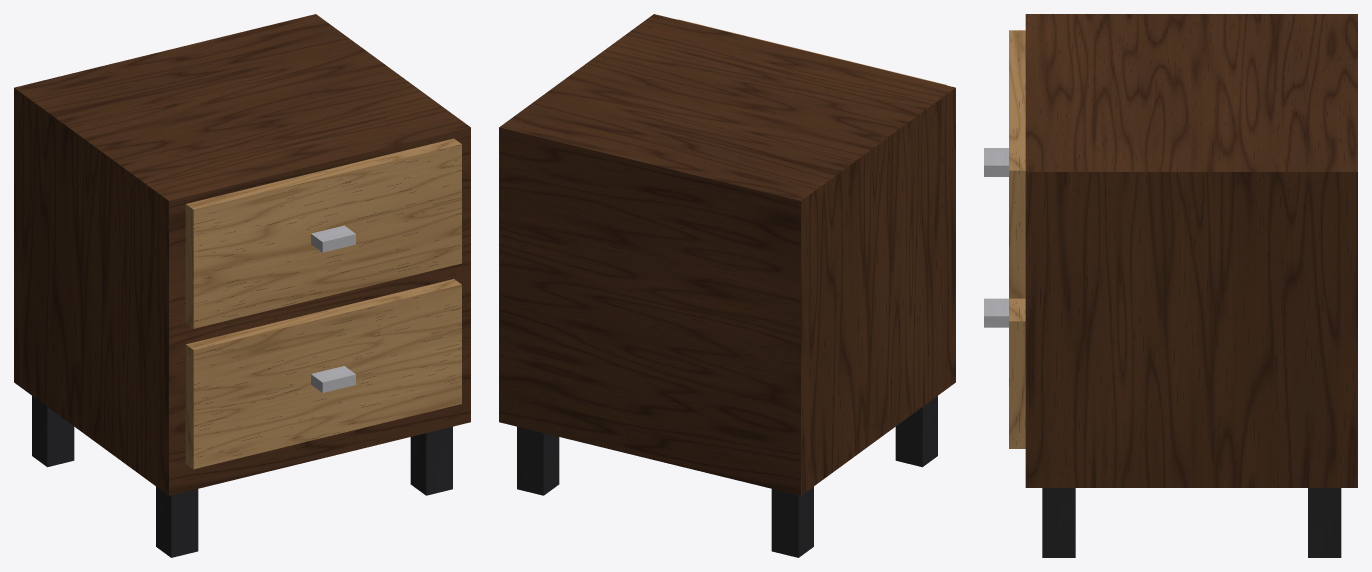
3 views of the same model, side by side, from view 1: azimuth 30°, elevation 25°; view 2: azimuth 150°, elevation 25°; view 3: azimuth 270°, elevation 25° (orthographic). The views are drawn at different scales.
Visible parts, largest first — view 1: Nightstand_Game; view 2: Nightstand_Game; view 3: Nightstand_Game.
Part boxes in pixels (box(x1,y1,x2,y2)): Nightstand_Game: box(14, 14, 470, 557); Nightstand_Game: box(499, 14, 955, 557); Nightstand_Game: box(984, 14, 1357, 557).
Size of the model in its own units: 0.45 by 0.52 by 0.45.
Materials: 4 (4 with a texture image).
